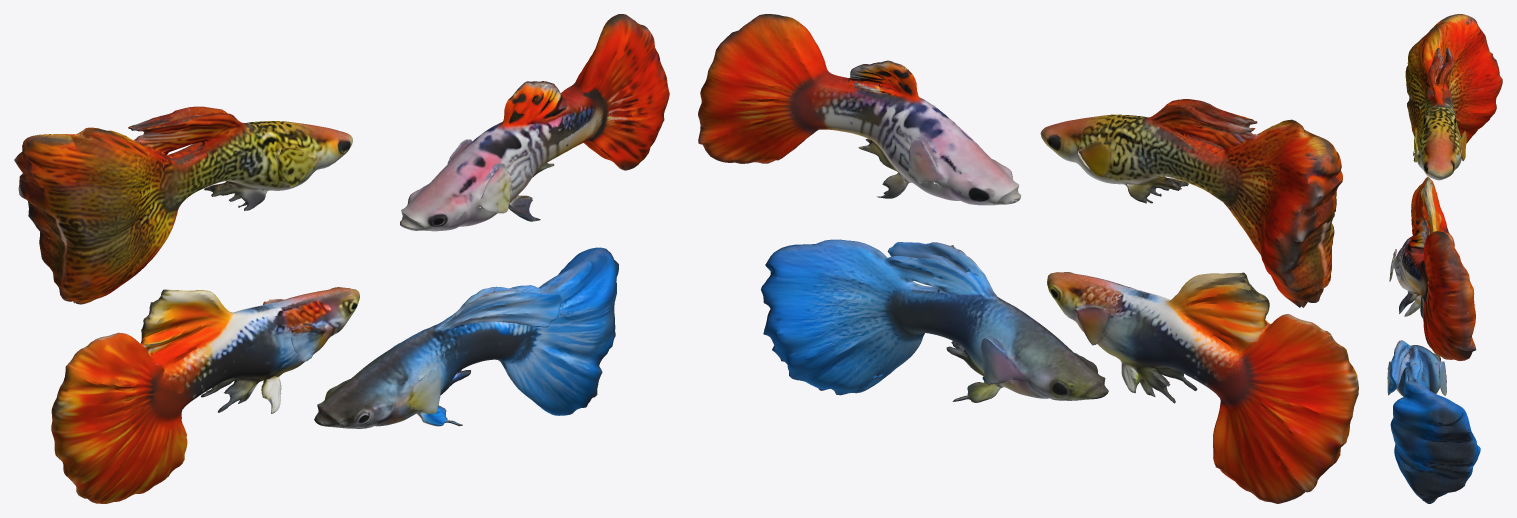
File: guppy_group2_mesh.glb
3 renders of one model, left to right at view 1: azimuth 30°, elevation 25°; view 2: azimuth 150°, elevation 25°; view 3: azimuth 270°, elevation 25°, orthographic. The views are drawn at different scales.
Bounding box in the file's own units: 2 × 1.17 × 0.4072.
Materials: 1 (1 with a texture image).
